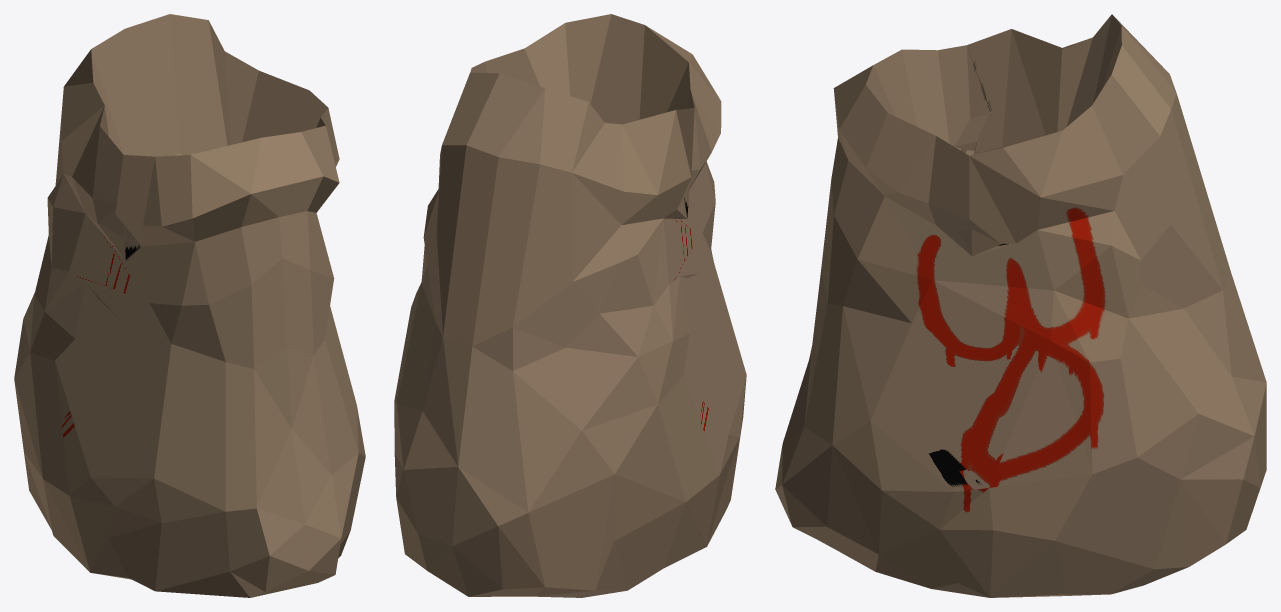
The model's file is FoodBag.fbx.
3 views of the same model, side by side, from view 1: azimuth 30°, elevation 25°; view 2: azimuth 150°, elevation 25°; view 3: azimuth 270°, elevation 25° (orthographic). The views are drawn at different scales.
Parts seen in each view (by area): view 1: Sphere; view 2: Sphere; view 3: Sphere.
Part boxes in pixels (left/top/right/bottom): Sphere: left=14, top=14, right=365, bottom=597; Sphere: left=394, top=14, right=746, bottom=597; Sphere: left=775, top=14, right=1266, bottom=597.
Bounding box in the file's own units: 130 × 225 × 194.
Materials: 1 (1 with a texture image).
